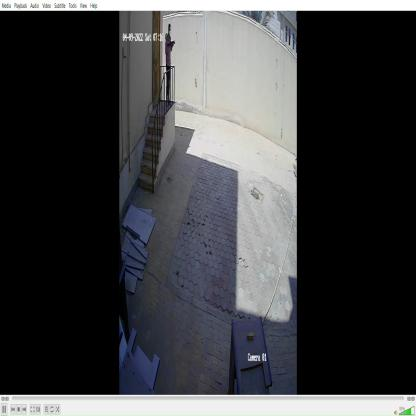handgun: (166, 37, 177, 56)
